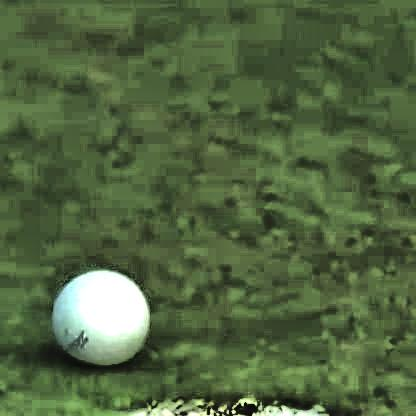golfball: (49, 264, 149, 364)
